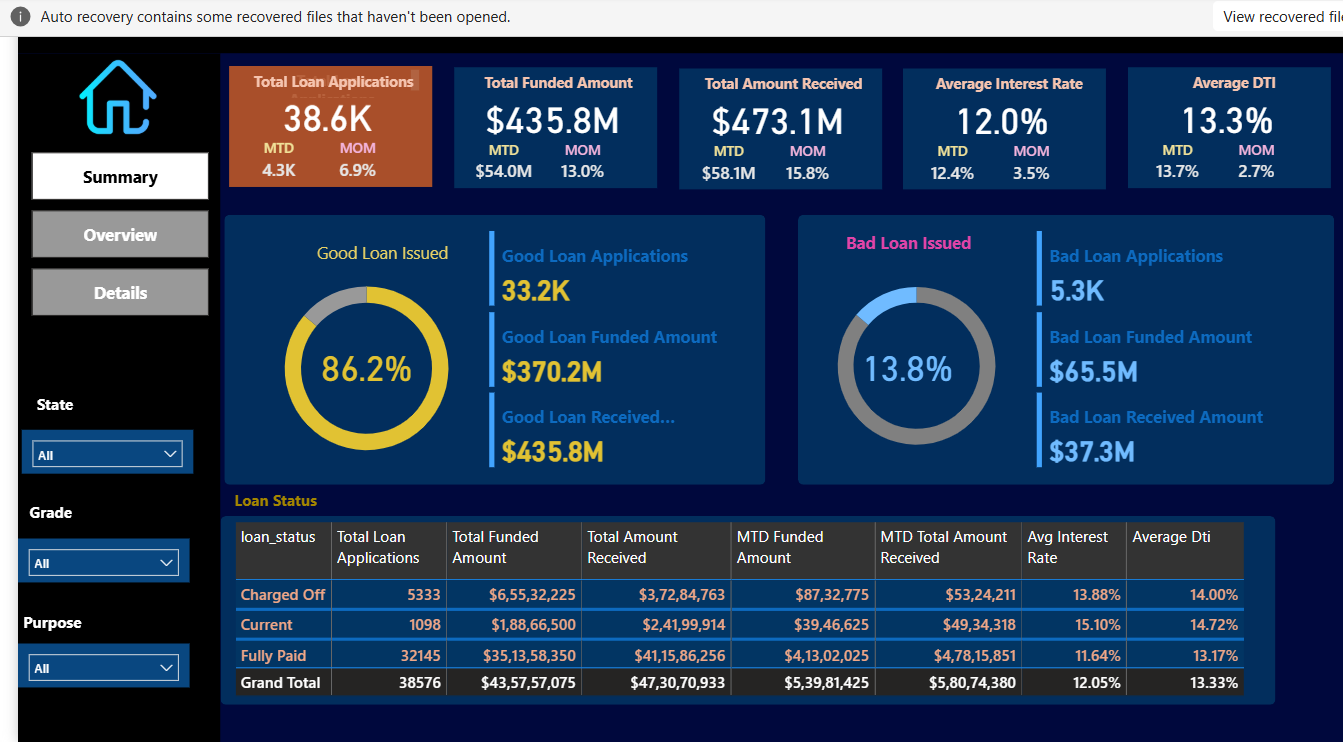

The page's visual inventory and layout, read from the dashboard file:
{"tool":"powerbi","page":{"name":"Summary","canvas":[1280,720],"ordinal":0},"visuals":[{"type":"shape","box":[0,0,1280.6,55.6],"z":0},{"type":"shape","box":[0,55.5,195.4,664.7],"z":1000},{"type":"textbox","box":[464.5,0,462.1,47.1],"z":2000},{"type":"group","id":"g1","title":"Group 1","box":[203.9,66.9,195.8,117.3],"z":3000},{"type":"shape","box":[203.9,67.6,195.8,116.7],"z":3000,"group":"g1"},{"type":"shape","box":[203.9,67.6,195.8,116.7],"z":3000,"group":"g6"},{"type":"shape","box":[420.7,68.8,195.8,116.7],"z":3000,"group":"g2"},{"type":"shape","box":[1071.3,68.8,195.8,116.7],"z":3000,"group":"g5"},{"type":"shape","box":[637.6,70,195.8,116.7],"z":3000,"group":"g3"},{"type":"shape","box":[854.5,70,195.8,116.7],"z":3000,"group":"g4"},{"type":"group","id":"g2","title":"Group 1","box":[420.7,68.8,196.6,117],"z":4000},{"type":"card","fields":{"Values":["banking_loan.Total Loan Applications"]},"box":[217.8,94,161.1,43.1],"z":4000,"group":"g1"},{"type":"card","fields":{"Values":["banking_loan.Total Loan Applications"]},"box":[217.8,94,161.1,43.1],"z":4000,"group":"g6"},{"type":"card","fields":{"Values":["banking_loan.Total Funded Amount"]},"box":[434.6,95.2,161.1,43.1],"z":4000,"group":"g2"},{"type":"card","fields":{"Values":["banking_loan.Average Dti"]},"box":[1085.2,95.2,161.1,43.1],"z":4000,"group":"g5"},{"type":"card","fields":{"Values":["banking_loan.Total Amount Received"]},"box":[651.5,96.4,161.1,43.1],"z":4000,"group":"g3"},{"type":"card","fields":{"Values":["banking_loan.Avg Interest Rate"]},"box":[868.4,96.4,161.1,43.1],"z":4000,"group":"g4"},{"type":"textbox","box":[220.9,66.9,171.3,37.4],"z":5000,"group":"g1"},{"type":"textbox","box":[217.8,67.6,172.2,37.5],"z":5000,"group":"g6"},{"type":"textbox","box":[434.6,68.8,172.2,37.5],"z":5000,"group":"g2"},{"type":"textbox","box":[1085.2,68.8,172.2,37.5],"z":5000,"group":"g5"},{"type":"textbox","box":[651.5,70,172.2,37.5],"z":5000,"group":"g3"},{"type":"textbox","box":[868.4,70,172.2,37.5],"z":5000,"group":"g4"},{"type":"shape","box":[199.1,211.1,522.4,260.6],"z":5000},{"type":"card","title":"MTD","fields":{"Values":["banking_loan.MTD Loan Applications"]},"box":[217.8,137,66.7,47.2],"z":6000,"group":"g1"},{"type":"card","title":"MTD","fields":{"Values":["banking_loan.MTD Loan Applications"]},"box":[217.8,137,66.7,47.2],"z":6000,"group":"g6"},{"type":"card","title":"MTD","fields":{"Values":["banking_loan.MTD Funded Amount"]},"box":[434.6,138.2,66.7,47.2],"z":6000,"group":"g2"},{"type":"card","title":"MTD","fields":{"Values":["banking_loan.MTD Avg Dti"]},"box":[1085.2,138.2,66.7,47.2],"z":6000,"group":"g5"},{"type":"card","title":"MTD","fields":{"Values":["banking_loan.MTD Total Amount Received"]},"box":[651.5,139.4,66.7,47.2],"z":6000,"group":"g3"},{"type":"card","title":"MTD","fields":{"Values":["banking_loan.MTD Avg Interest Rate"]},"box":[868.4,139.4,66.7,47.2],"z":6000,"group":"g4"},{"type":"card","fields":{"Values":["banking_loan.Good Loan %"]},"box":[273.9,335.4,125.5,43.4],"z":6000},{"type":"group","id":"g3","title":"Group 1","box":[637.6,70,196.6,117],"z":7000},{"type":"card","title":"MOM","fields":{"Values":["banking_loan.MOM Loan Applications"]},"box":[298.3,137,59.7,47.2],"z":7000,"group":"g1"},{"type":"card","title":"MOM","fields":{"Values":["banking_loan.MOM Loan Applications"]},"box":[298.3,137,59.7,47.2],"z":7000,"group":"g6"},{"type":"card","title":"MOM","fields":{"Values":["banking_loan.MOM Funded Amount"]},"box":[515.1,138.2,59.7,47.2],"z":7000,"group":"g2"},{"type":"card","title":"MOM","fields":{"Values":["banking_loan.MOM Avg Dti"]},"box":[1165.7,138.2,59.7,47.2],"z":7000,"group":"g5"},{"type":"card","title":"MOM","fields":{"Values":["banking_loan.MOM Total Amount Received"]},"box":[732,139.4,59.7,47.2],"z":7000,"group":"g3"},{"type":"card","title":"MOM","fields":{"Values":["banking_loan.MOM Avg Interest Rate"]},"box":[948.9,139.4,59.7,47.2],"z":7000,"group":"g4"},{"type":"donutChart","fields":{"Category":["banking_loan.Good vs Bad Loan"],"Y":["banking_loan.Total Loan Applications"]},"box":[220.8,255.8,231.6,207.5],"z":8000},{"type":"group","id":"g4","title":"Group 1","box":[854.5,70,196.6,117],"z":9000},{"type":"group","id":"g5","title":"Group 1","box":[1071.3,68.8,196.6,117],"z":10000},{"type":"shape","box":[752.8,211.1,517.6,260.6],"z":11000},{"type":"group","id":"g6","title":"Group 1","box":[203.9,67.6,196.6,117],"z":12000},{"type":"textbox","box":[13.3,378.8,127.9,30.2],"z":13000},{"type":"cardVisual","fields":{"Data":["banking_loan.Good Loan Applications","banking_loan.Good Loan Funded Amount","banking_loan.Good Loan Received Amount"]},"box":[450,222,249.7,238.9],"z":14000},{"type":"donutChart","fields":{"Category":["banking_loan.Good vs Bad Loan"],"Y":["banking_loan.Total Loan Applications"]},"box":[767.3,253.4,200.3,207.5],"z":15000},{"type":"card","fields":{"Values":["banking_loan.Bad Loan %"]},"box":[804.7,335.4,107.4,43.4],"z":16000},{"type":"textbox","box":[767.3,222,184.6,33.8],"z":17000},{"type":"cardVisual","fields":{"Data":["banking_loan.Bad Loan Applications","banking_loan.Bad Loan Funded Amount","banking_loan.Bad Loan Received Amount"]},"box":[978.4,222,249.7,238.9],"z":18000},{"type":"shape","box":[195.4,501.9,1018.2,182.2],"z":19000},{"type":"tableEx","fields":{"Values":["banking_loan.loan_status","banking_loan.Total Loan Applications","banking_loan.Total Funded Amount","banking_loan.Total Amount Received","banking_loan.MTD Funded Amount","banking_loan.MTD Total Amount Received","banking_loan.Avg Interest Rate","banking_loan.Average Dti"]},"box":[203.9,503.1,988.1,182.2],"z":20000},{"type":"textbox","box":[203.9,471.7,132.7,30.2],"z":21000},{"type":"slicer","fields":{"Values":["banking_loan.address_state"]},"box":[3.6,418.6,165.3,42.2],"z":22000},{"type":"textbox","box":[283.9,232,160.5,31.4],"z":23000},{"type":"slicer","fields":{"Values":["banking_loan.grade"]},"box":[0,523.6,165.3,42.2],"z":24000},{"type":"textbox","box":[6,482.6,142.4,41],"z":25000},{"type":"slicer","fields":{"Values":["banking_loan.purpose"]},"box":[0,624.9,165.3,42.2],"z":26000},{"type":"textbox","box":[0,588.7,127.9,36.2],"z":27000},{"type":"image","box":[24.1,55.5,144.8,84.5],"z":28000},{"type":"pageNavigator","box":[13.3,150.8,171.3,159.3],"z":29000}]}

Visuals, with their boxes on the page's 1280x720 design canvas (x1, y1, x2, y2). These are canvas units, not pixel positions in the 1343x742 screenshot, which may show the page scaled, cropped or inside an application window:
shape: (0,0,1281,56)
shape: (0,56,195,720)
textbox: (464,0,927,47)
"Group 1" group: (204,67,400,184)
shape: (204,68,400,184)
shape: (204,68,400,184)
shape: (421,69,616,186)
shape: (1071,69,1267,186)
shape: (638,70,833,187)
shape: (854,70,1050,187)
"Group 1" group: (421,69,617,186)
card - banking_loan.Total Loan Applications: (218,94,379,137)
card - banking_loan.Total Loan Applications: (218,94,379,137)
card - banking_loan.Total Funded Amount: (435,95,596,138)
card - banking_loan.Average Dti: (1085,95,1246,138)
card - banking_loan.Total Amount Received: (652,96,813,140)
card - banking_loan.Avg Interest Rate: (868,96,1030,140)
textbox: (221,67,392,104)
textbox: (218,68,390,105)
textbox: (435,69,607,106)
textbox: (1085,69,1257,106)
textbox: (652,70,824,108)
textbox: (868,70,1041,108)
shape: (199,211,722,472)
"MTD" card: (218,137,284,184)
"MTD" card: (218,137,284,184)
"MTD" card: (435,138,501,185)
"MTD" card: (1085,138,1152,185)
"MTD" card: (652,139,718,187)
"MTD" card: (868,139,935,187)
card - banking_loan.Good Loan %: (274,335,399,379)
"Group 1" group: (638,70,834,187)
"MOM" card: (298,137,358,184)
"MOM" card: (298,137,358,184)
"MOM" card: (515,138,575,185)
"MOM" card: (1166,138,1225,185)
"MOM" card: (732,139,792,187)
"MOM" card: (949,139,1009,187)
donutChart - banking_loan.Good vs Bad Loan x banking_loan.Total Loan Applications: (221,256,452,463)
"Group 1" group: (854,70,1051,187)
"Group 1" group: (1071,69,1268,186)
shape: (753,211,1270,472)
"Group 1" group: (204,68,400,185)
textbox: (13,379,141,409)
cardVisual - banking_loan.Good Loan Applications x banking_loan.Good Loan Funded Amount: (450,222,700,461)
donutChart - banking_loan.Good vs Bad Loan x banking_loan.Total Loan Applications: (767,253,968,461)
card - banking_loan.Bad Loan %: (805,335,912,379)
textbox: (767,222,952,256)
cardVisual - banking_loan.Bad Loan Applications x banking_loan.Bad Loan Funded Amount: (978,222,1228,461)
shape: (195,502,1214,684)
tableEx - banking_loan.loan_status x banking_loan.Total Loan Applications: (204,503,1192,685)
textbox: (204,472,337,502)
slicer - banking_loan.address_state: (4,419,169,461)
textbox: (284,232,444,263)
slicer - banking_loan.grade: (0,524,165,566)
textbox: (6,483,148,524)
slicer - banking_loan.purpose: (0,625,165,667)
textbox: (0,589,128,625)
image: (24,56,169,140)
pageNavigator: (13,151,185,310)
